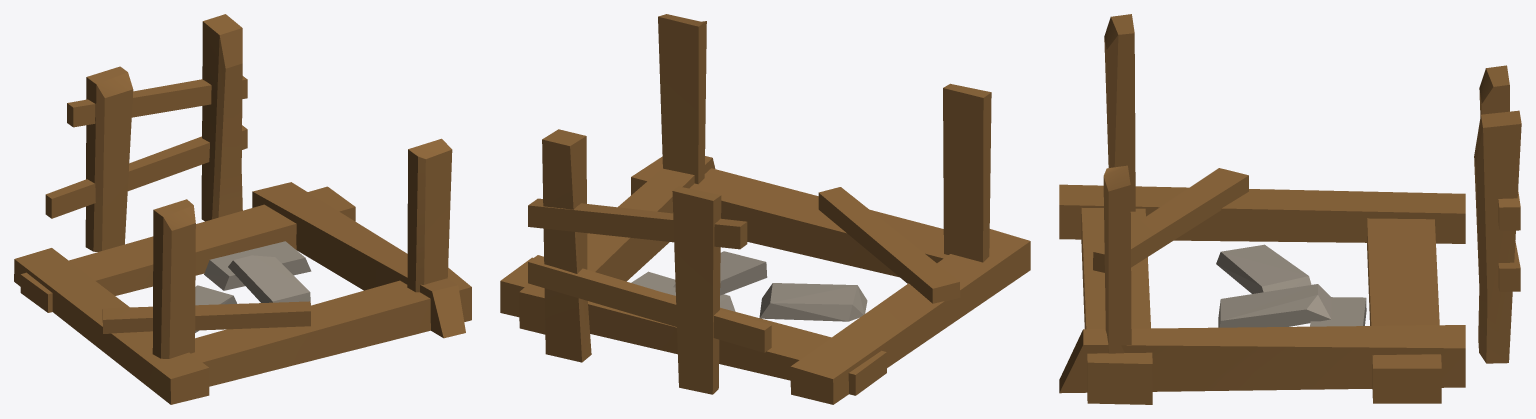
File: Build_Foundation_01.FBX
The picture shows the model from 3 angles, left to right: view 1: azimuth 30°, elevation 25°; view 2: azimuth 150°, elevation 25°; view 3: azimuth 270°, elevation 25°; orthographic projection. The views are drawn at different scales.
Visible parts, largest first — view 1: Build_Foundation_01_part03, Build_Foundation_01_part02, Build_Foundation_01_part01; view 2: Build_Foundation_01_part03, Build_Foundation_01_part02, Build_Foundation_01_part01; view 3: Build_Foundation_01_part03, Build_Foundation_01_part02, Build_Foundation_01_part01.
Boxes of the visible parts, bbox=[...] form: Build_Foundation_01_part03: bbox=[14, 182, 471, 404]; Build_Foundation_01_part02: bbox=[45, 14, 247, 251]; Build_Foundation_01_part01: bbox=[152, 138, 452, 358]; Build_Foundation_01_part03: bbox=[500, 156, 1030, 404]; Build_Foundation_01_part02: bbox=[528, 129, 771, 394]; Build_Foundation_01_part01: bbox=[658, 14, 991, 262]; Build_Foundation_01_part03: bbox=[1059, 168, 1465, 404]; Build_Foundation_01_part02: bbox=[1474, 65, 1521, 363]; Build_Foundation_01_part01: bbox=[1103, 14, 1135, 353].
Size of the model in its own units: 287 by 168 by 295.
Materials: 1 (1 with a texture image).
